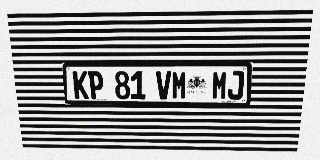1: (130, 71, 145, 99)
8: (114, 71, 130, 99)
J: (227, 71, 244, 100)
K: (73, 71, 89, 99)
M: (211, 71, 228, 100), (172, 71, 187, 99)
P: (88, 71, 104, 99)
V: (156, 71, 171, 99)
